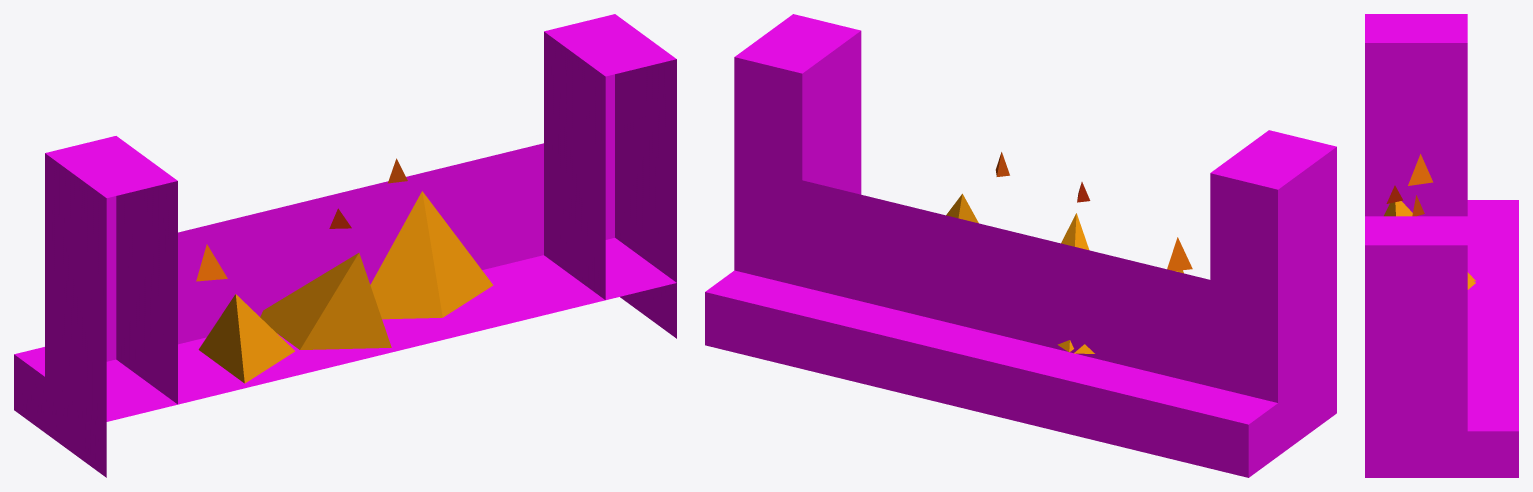
Rendered from fireplacea2.obj.
The picture shows the model from 3 angles, left to right: view 1: azimuth 30°, elevation 25°; view 2: azimuth 150°, elevation 25°; view 3: azimuth 270°, elevation 25°; orthographic projection. The views are drawn at different scales.
Visible parts, largest first — view 1: fireplacea2_back; view 2: fireplacea2_back; view 3: fireplacea2_back.
Part boxes in pixels (box(x1,y1,x2,y2)): fireplacea2_back: box(14, 14, 676, 477); fireplacea2_back: box(705, 14, 1336, 477); fireplacea2_back: box(1365, 14, 1518, 477).
Size of the model in its own units: 2.56 by 1.2 by 0.72.
